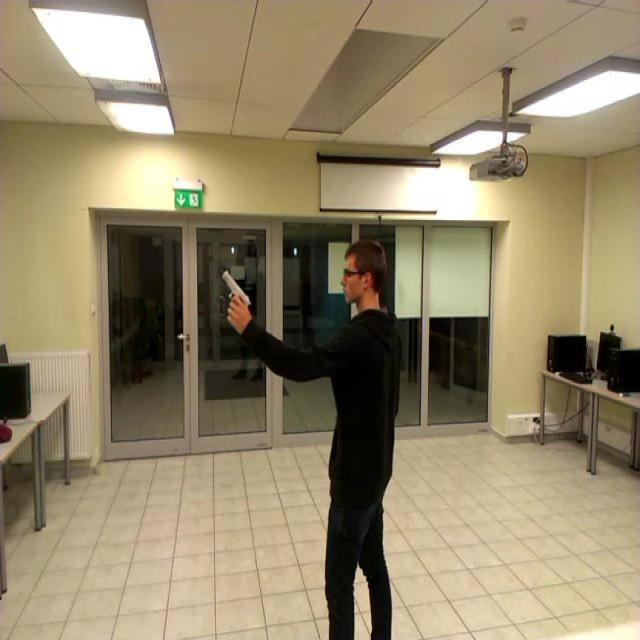pistol: (223, 270, 252, 318)
